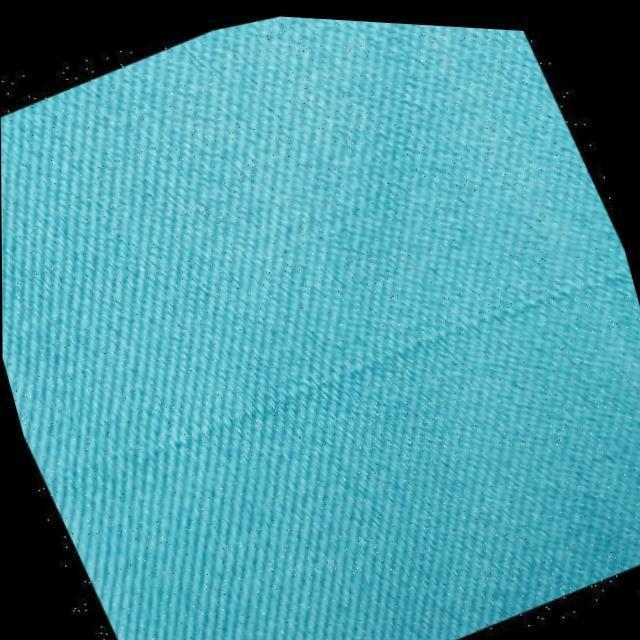pulled_or_thick_thread: (154, 248, 631, 444)
